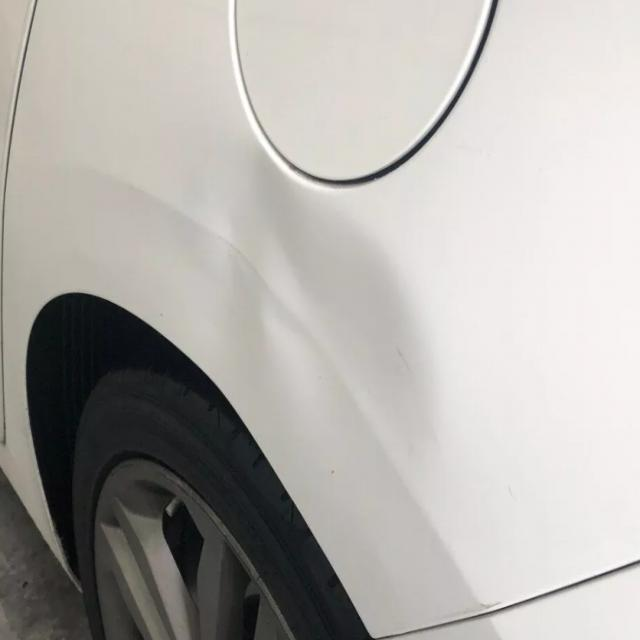dents: (221, 149, 456, 466)
